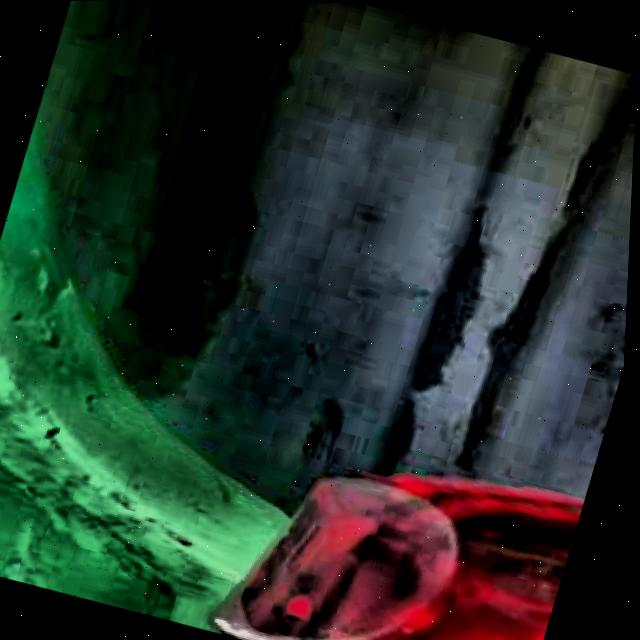glass: (220, 479, 588, 640)
